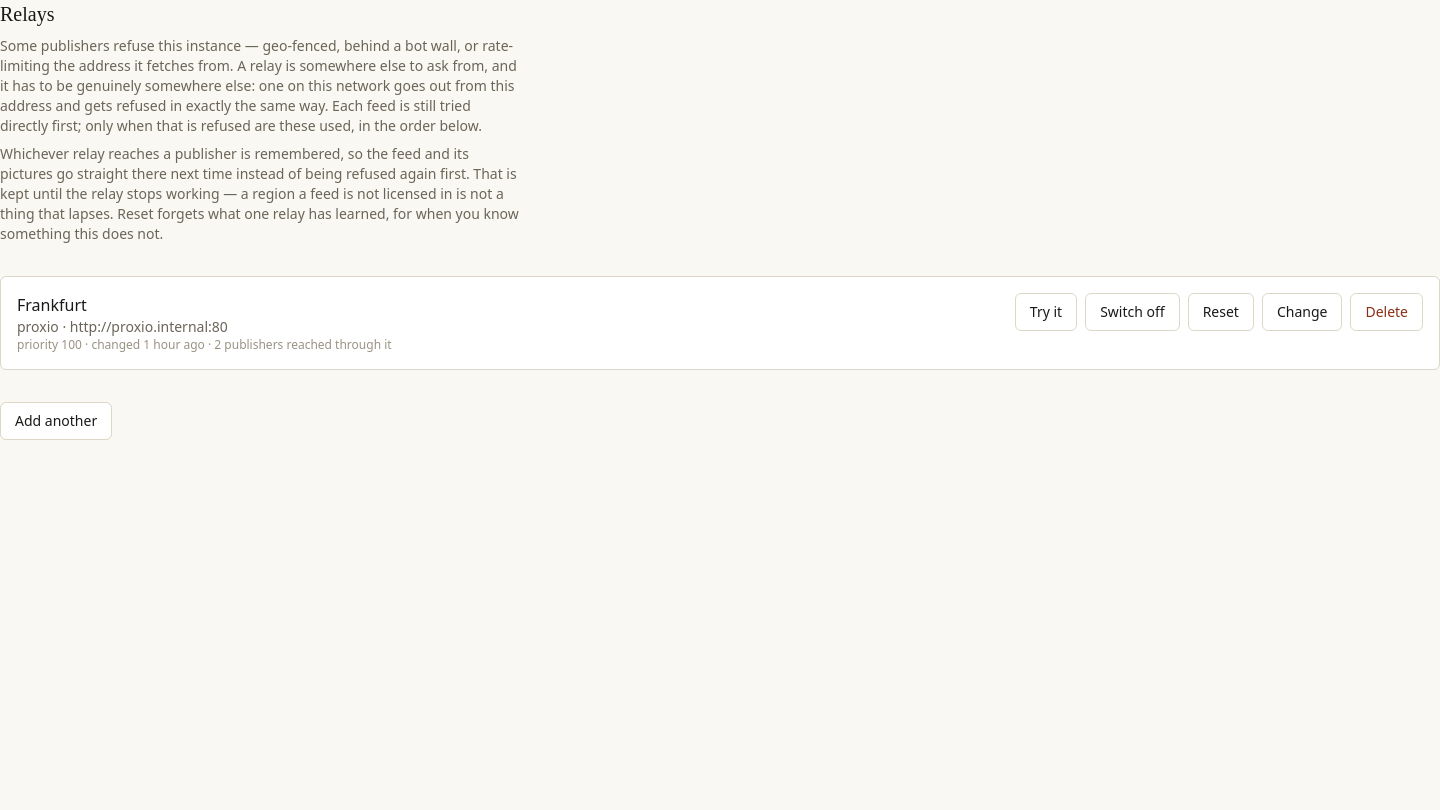
it: ProxiesPage › leaves a stored token alone when the field is left empty
Step 1. Click the button "Change" → (1302, 312), box left=1262, top=293, right=1342, bottom=331
(page scrolled)
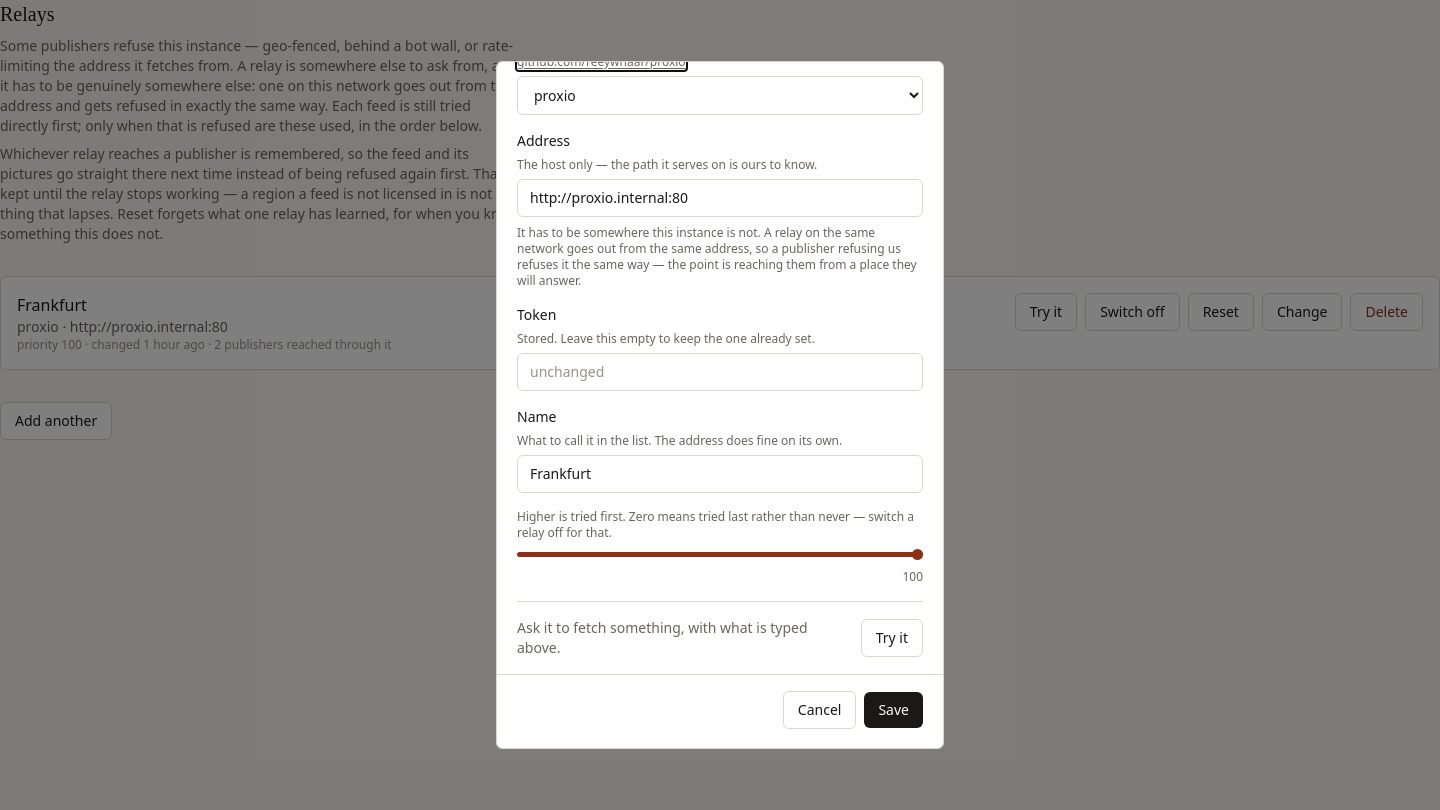
Expected: the password field labelled "Token" is empty, left=517, top=353, right=923, bottom=391
Expected: the text "Stored. Leave this empty to keep the one already set." is shown, left=517, top=330, right=815, bottom=347
Expected: the button "Save" is enabled, left=864, top=692, right=923, bottom=728
